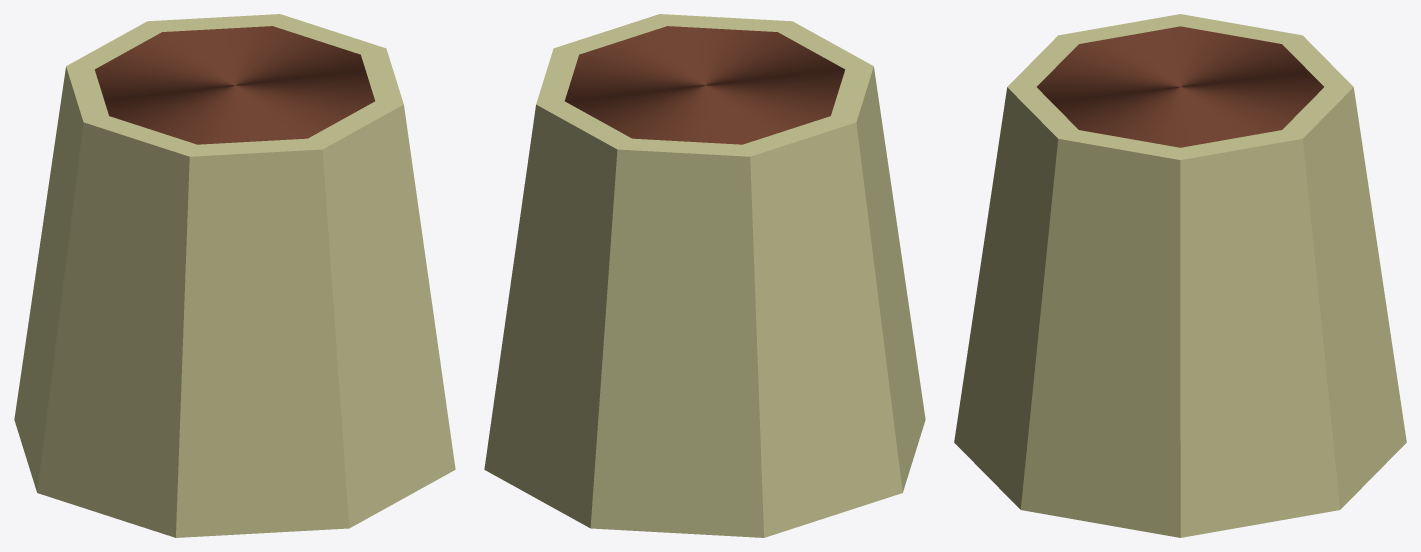
The model's file is StumpCayGoi.fbx.
3 renders of one model, left to right at view 1: azimuth 30°, elevation 25°; view 2: azimuth 150°, elevation 25°; view 3: azimuth 270°, elevation 25°, orthographic.
Visible parts, largest first — view 1: Cube.001; view 2: Cube.001; view 3: Cube.001.
Boxes of the visible parts, box(x1,y1,x2,y2) form: Cube.001: box(14, 14, 455, 537); Cube.001: box(484, 14, 925, 537); Cube.001: box(954, 14, 1406, 537).
Bounding box in the file's own units: 283 × 245 × 283.
